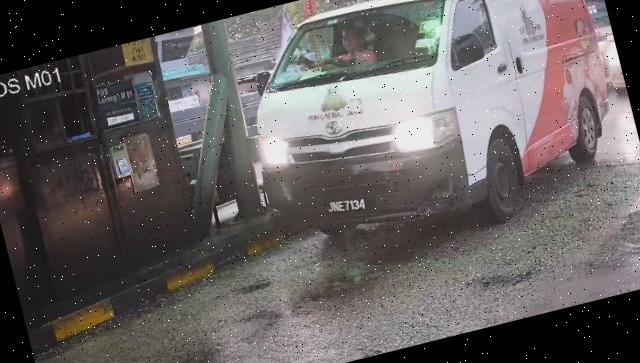License_Plate: (326, 190, 372, 222)
van: (228, 1, 636, 277)
